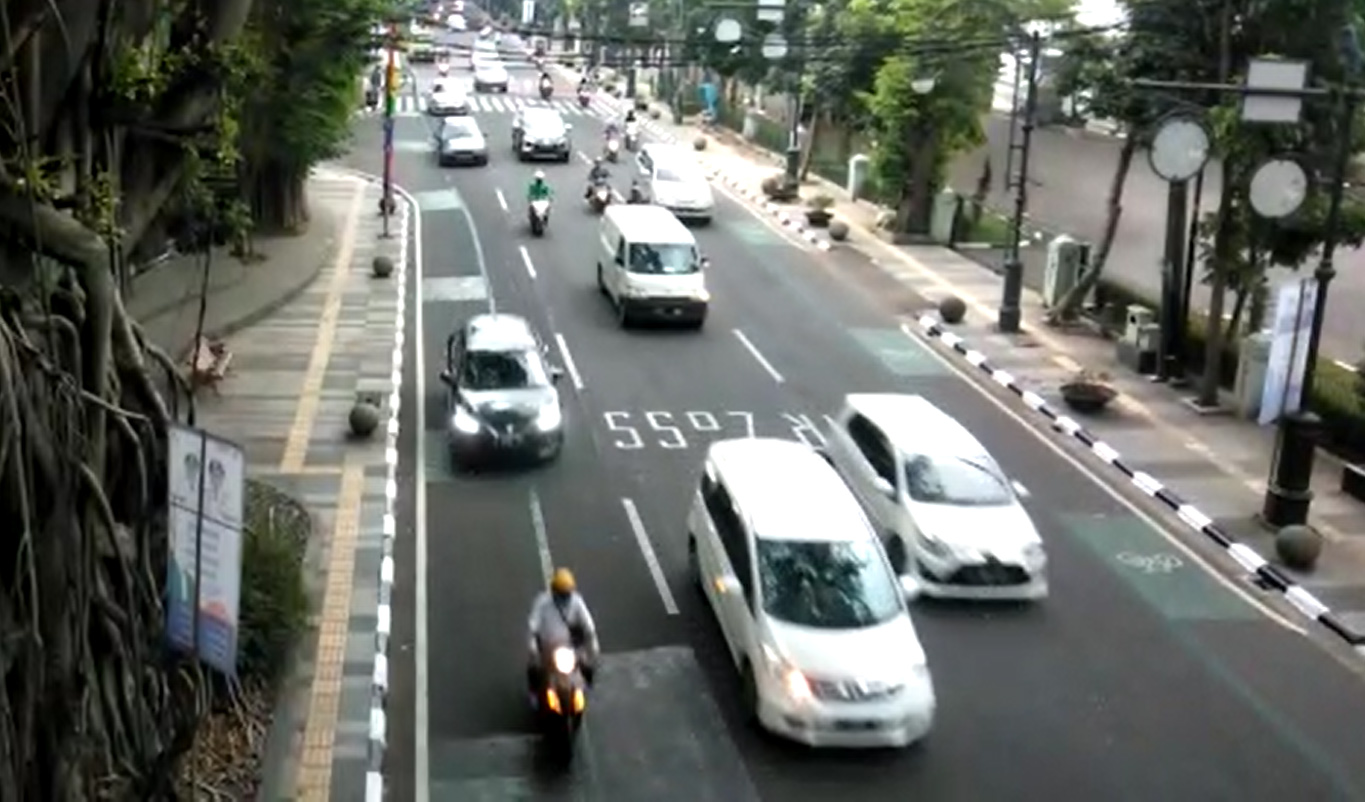mobil: (676, 429, 949, 763), (816, 379, 1059, 624), (436, 309, 572, 485), (591, 197, 719, 341)
motor: (510, 559, 616, 775), (520, 163, 557, 246)
